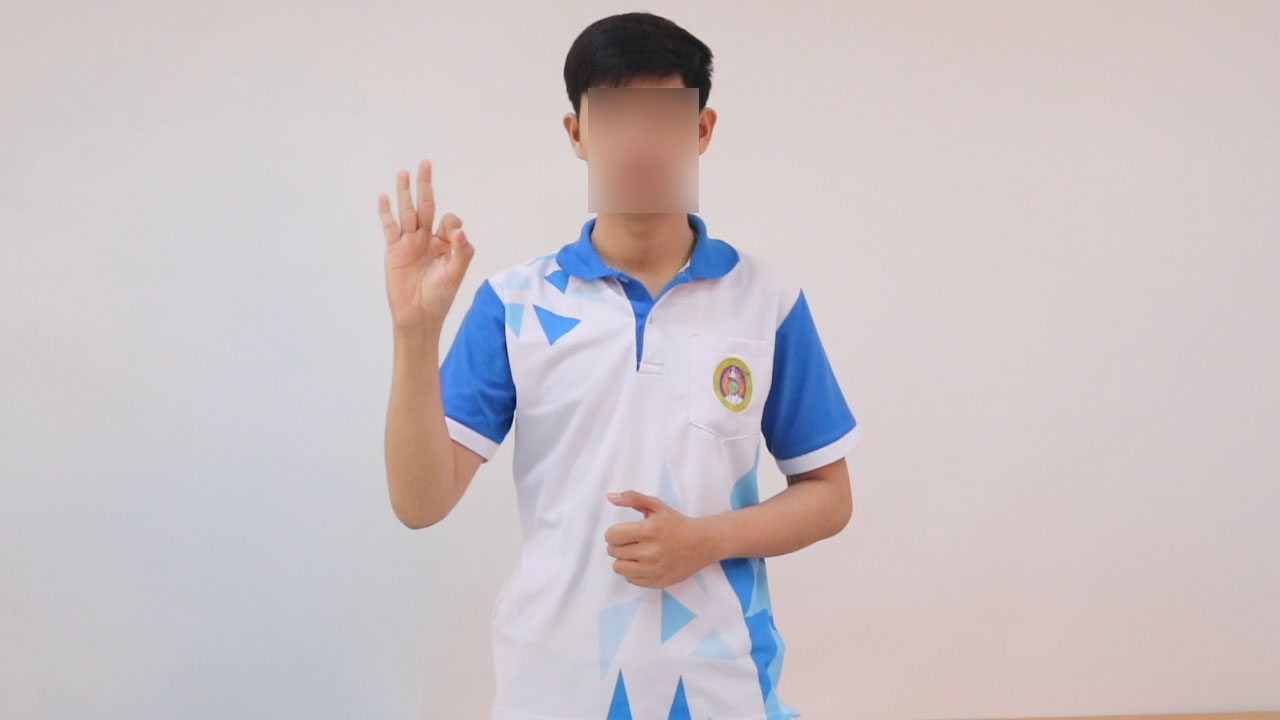for: (372, 150, 483, 349)
